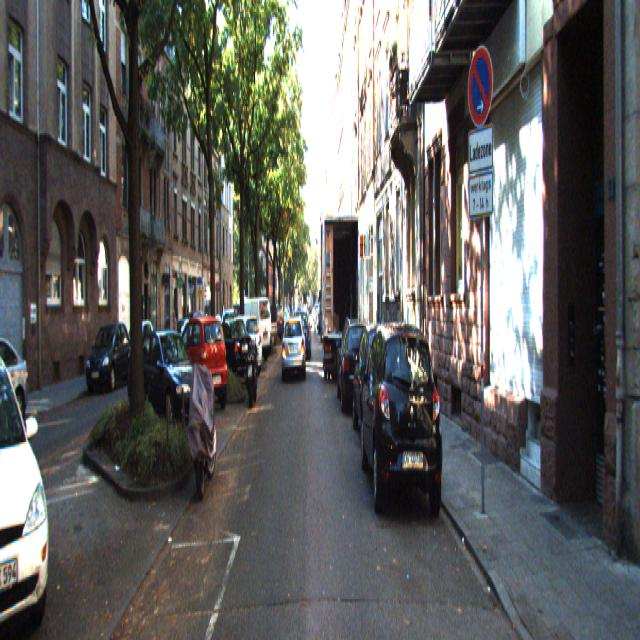Car: (360, 320, 447, 525), (127, 325, 212, 436), (173, 358, 226, 502), (321, 214, 359, 380), (169, 313, 231, 414), (353, 324, 400, 451), (337, 316, 376, 413), (84, 321, 135, 392), (204, 316, 255, 385), (233, 296, 273, 359), (225, 316, 264, 374), (282, 315, 306, 380), (243, 328, 263, 404), (292, 311, 311, 364)
